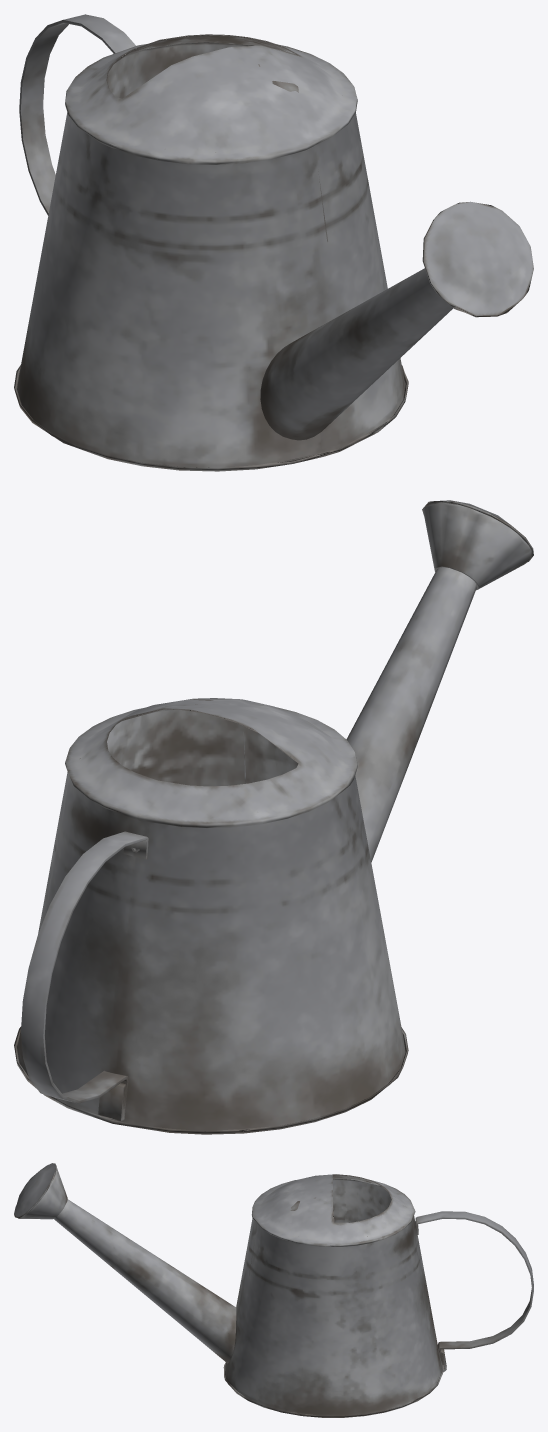
The model's file is watering_can_metal_01.glb.
3 renders of one model, top to bottom at view 1: azimuth 30°, elevation 25°; view 2: azimuth 150°, elevation 25°; view 3: azimuth 270°, elevation 25°, orthographic. The views are drawn at different scales.
Visible parts, largest first — view 1: watering_can_metal_01; view 2: watering_can_metal_01; view 3: watering_can_metal_01.
Boxes of the visible parts, x1,y1,x2,y2 form: watering_can_metal_01: (14, 14, 533, 471); watering_can_metal_01: (14, 500, 533, 1134); watering_can_metal_01: (14, 1163, 533, 1417).
Size of the model in its own units: 0.1905 by 0.1963 by 0.4521.
Materials: 1 (1 with a texture image).
